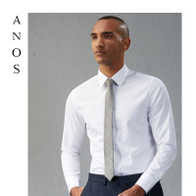F_shirt: (60, 65, 178, 194)
F_tie: (98, 77, 118, 184)
